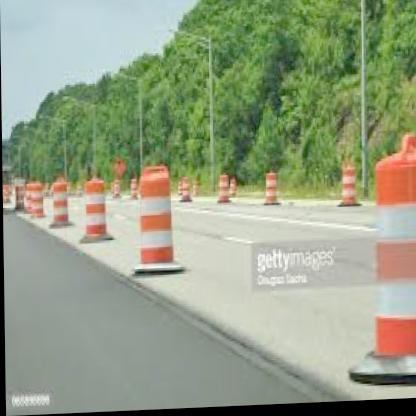obstacle: (366, 140, 416, 362), (137, 174, 177, 266)
